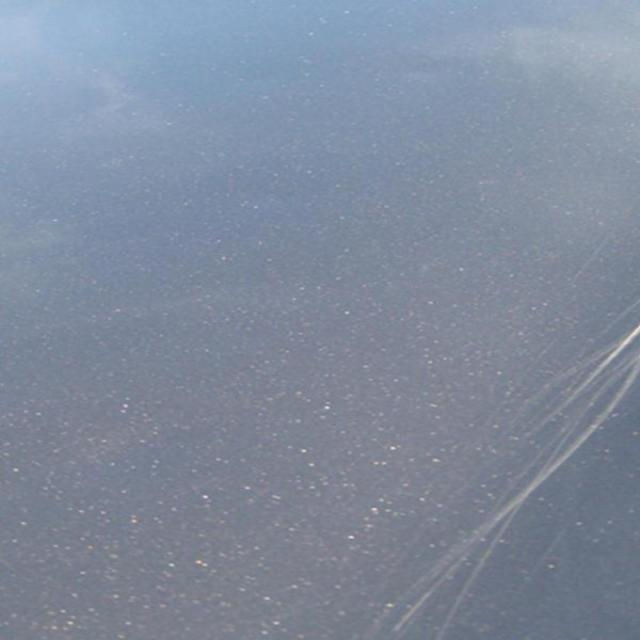scratch: (374, 329, 638, 636)
